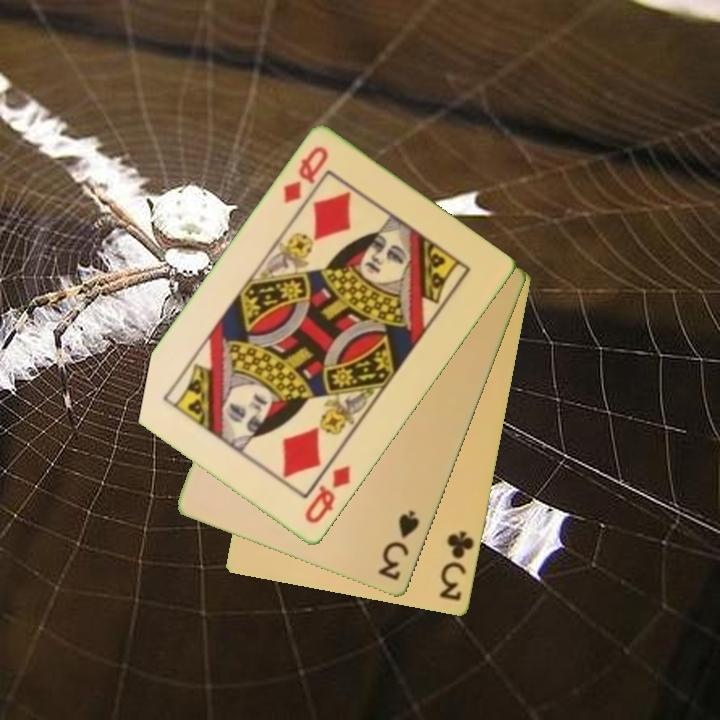3c: (436, 528, 477, 605)
3s: (375, 507, 423, 584)
Qd: (301, 462, 354, 528), (279, 143, 332, 208)
